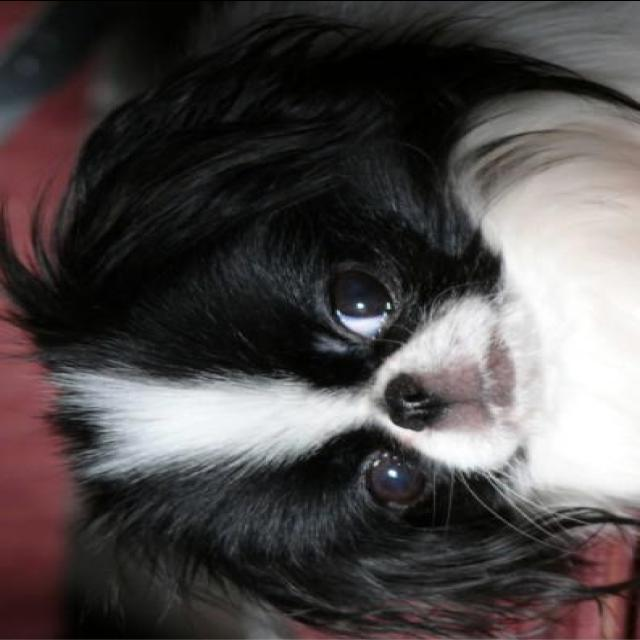husky: (6, 11, 634, 633)
